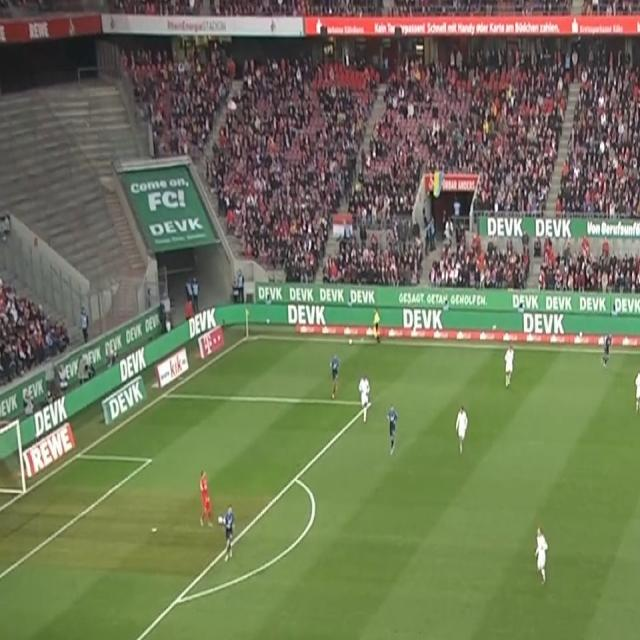ball: (217, 512, 224, 526)
